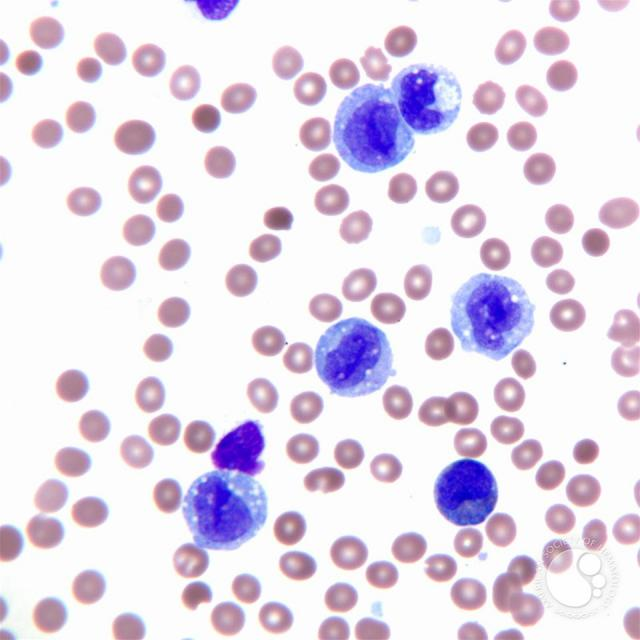ALL Positive Cell: (448, 274, 544, 359), (325, 91, 408, 178), (308, 316, 392, 399), (178, 474, 272, 547), (390, 63, 461, 134), (428, 461, 499, 528), (212, 424, 267, 476)
